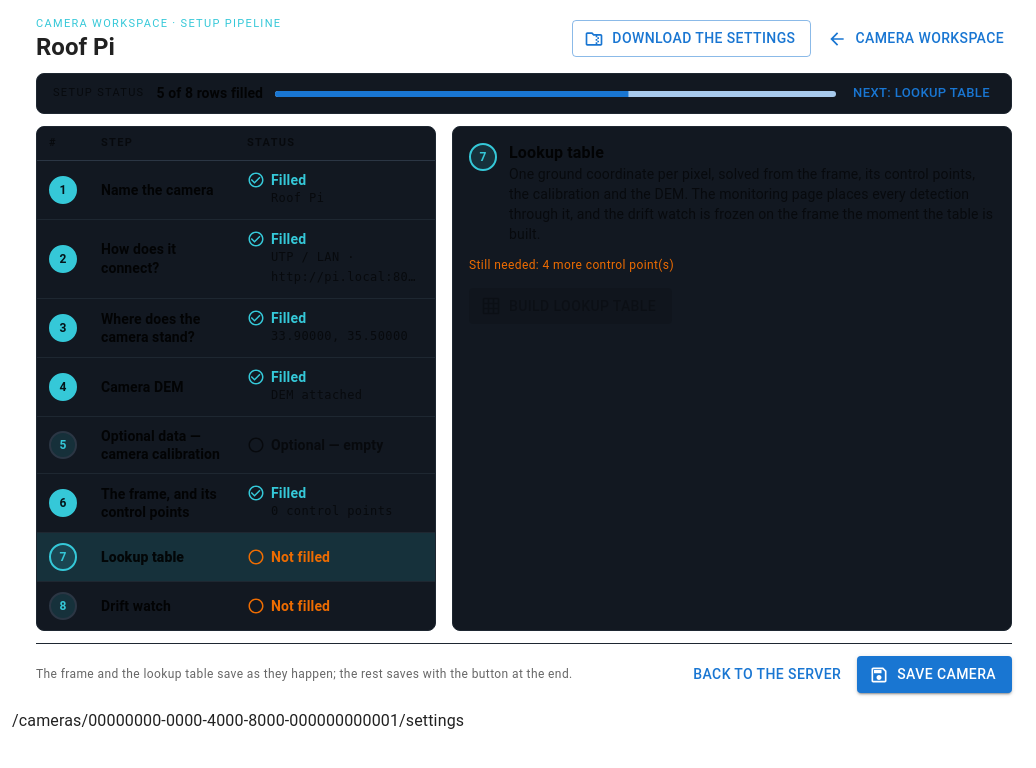
Test: an EXISTING camera › ★ shows the DEM card for its backing project and the frame it already has
Check: the heading "Roof Pi" is shown, box [36,32,115,60]
Click the heading "The frame, and its control points": [162, 503] box [101,485,223,522]
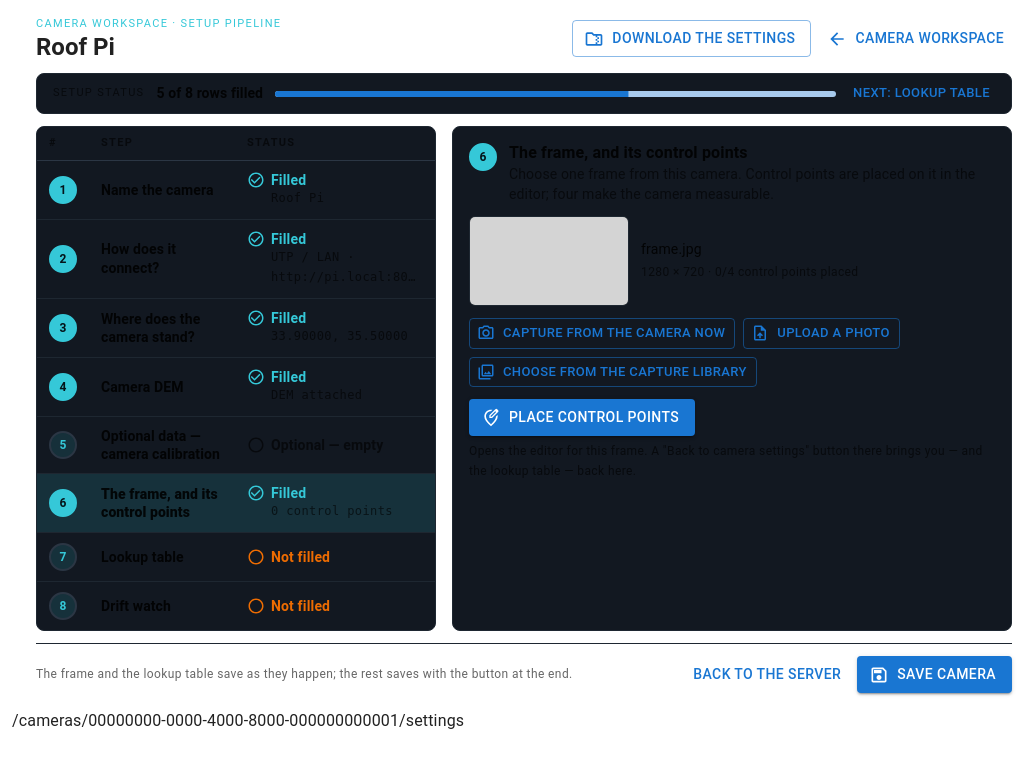
Check: the number of buttons "Save camera" is 1, box [857,656,1012,693]
Check: the text "frame.jpg" is shown, box [641,241,702,257]
